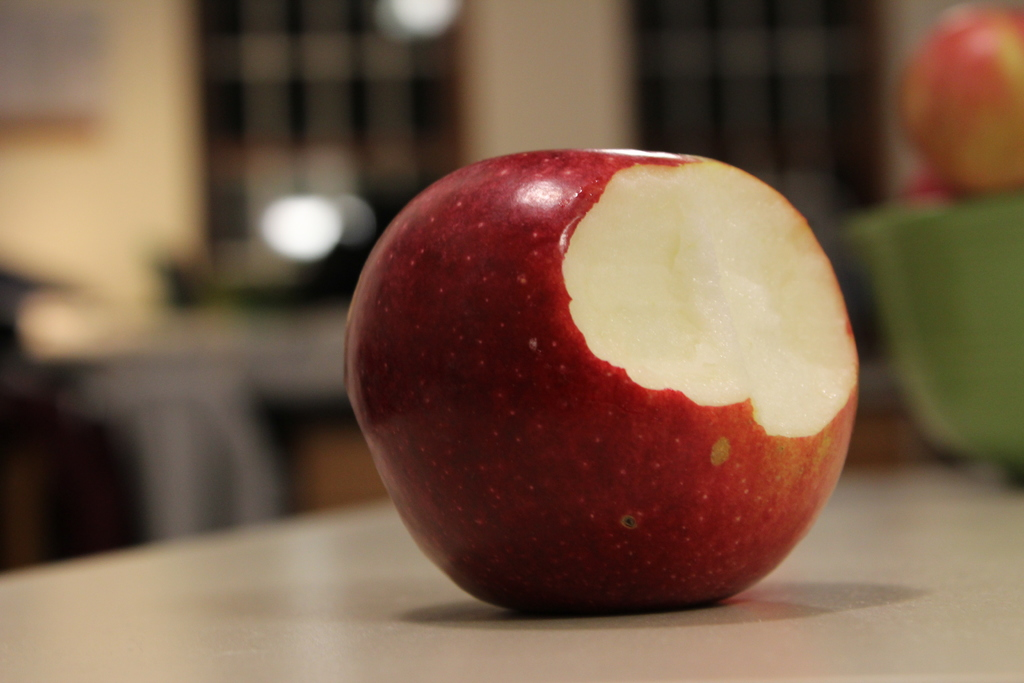Apple: (336, 133, 844, 618)
